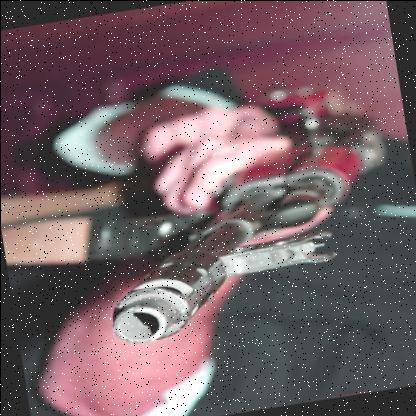rifle: (65, 94, 408, 360)
